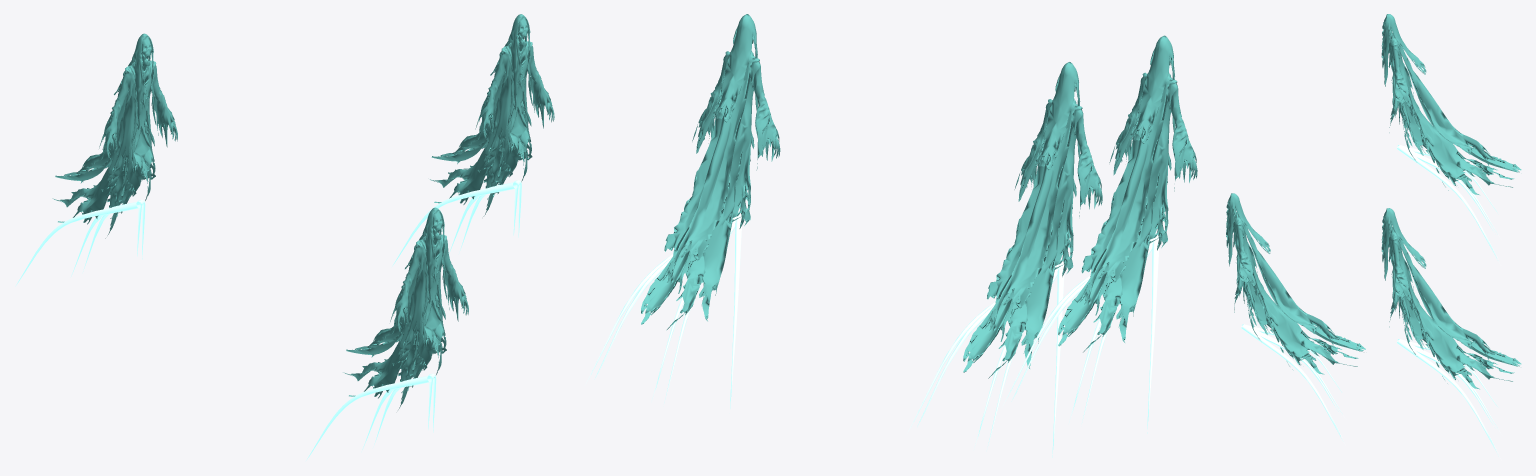
File: 06-will-o-wisp-fen.glb
3 views of the same model, side by side, from view 1: azimuth 30°, elevation 25°; view 2: azimuth 150°, elevation 25°; view 3: azimuth 270°, elevation 25° (orthographic). The views are drawn at different scales.
Parts seen in each view (by area): view 1: sculpt (×6); view 2: sculpt (×6); view 3: sculpt (×6).
Boxes of the visible parts, x1,y1,x2,y2 form: sculpt (×6): (15,14,554,460); sculpt (×6): (586,14,1197,457); sculpt (×6): (1226,14,1521,458).
Size of the model in its own units: 2.56 by 2.15 by 1.71.
